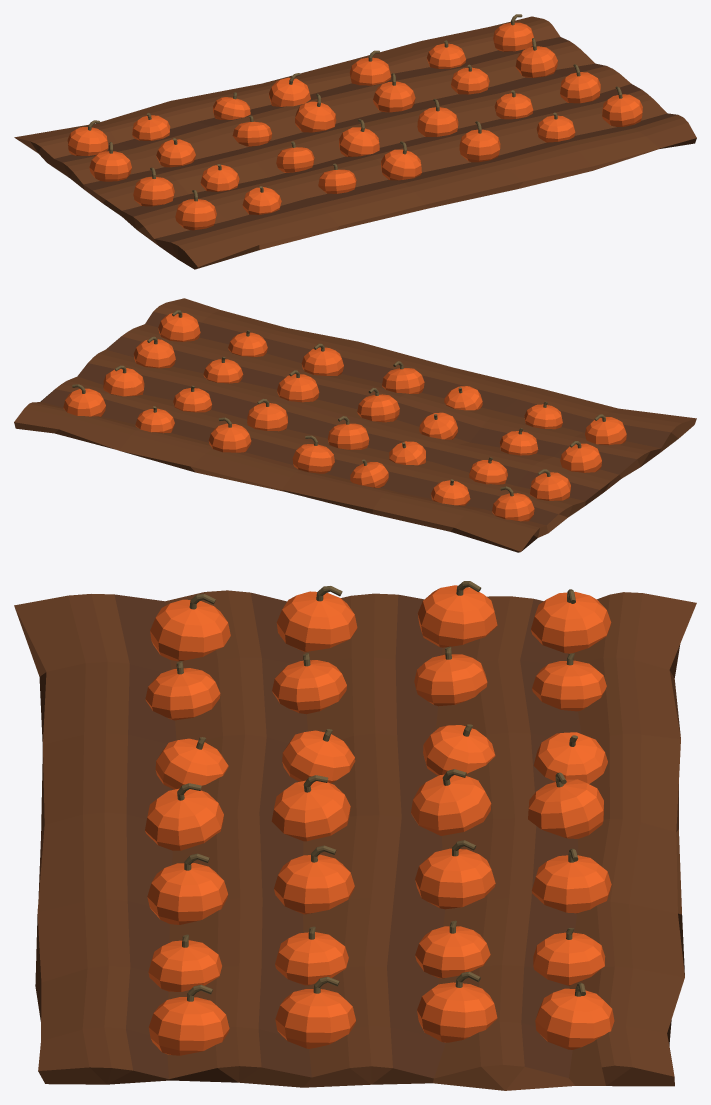
Rendered from PumpkinHarvest_1.fbx.
3 views of the same model, one above another, from view 1: azimuth 30°, elevation 25°; view 2: azimuth 150°, elevation 25°; view 3: azimuth 270°, elevation 25° (orthographic). The views are drawn at different scales.
Parts seen in each view (by area): view 1: PumpkinHarvest_1; view 2: PumpkinHarvest_1; view 3: PumpkinHarvest_1.
Part boxes in pixels (x1,y1,x2,y2): PumpkinHarvest_1: (14,14,696,269); PumpkinHarvest_1: (14,298,696,552); PumpkinHarvest_1: (14,581,696,1090).
Bounding box in the file's own units: 825 × 58.69 × 498.
